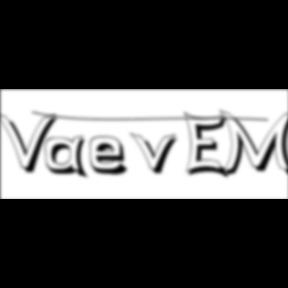E: (184, 110, 232, 182)
V: (0, 110, 62, 176)
a: (45, 135, 93, 182)
e: (89, 135, 135, 178)
v: (130, 131, 184, 177)
